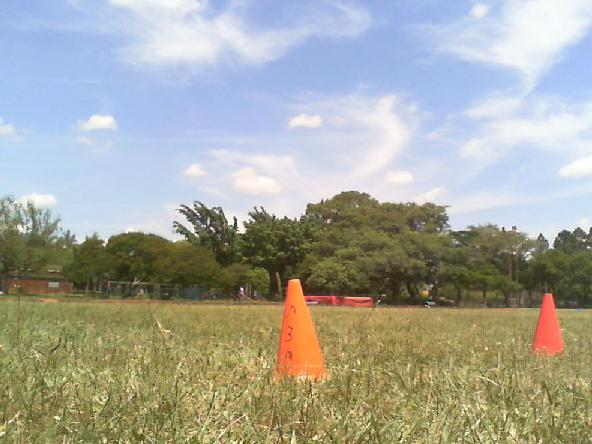0 cone: (273, 280, 331, 384), (531, 294, 564, 357)
